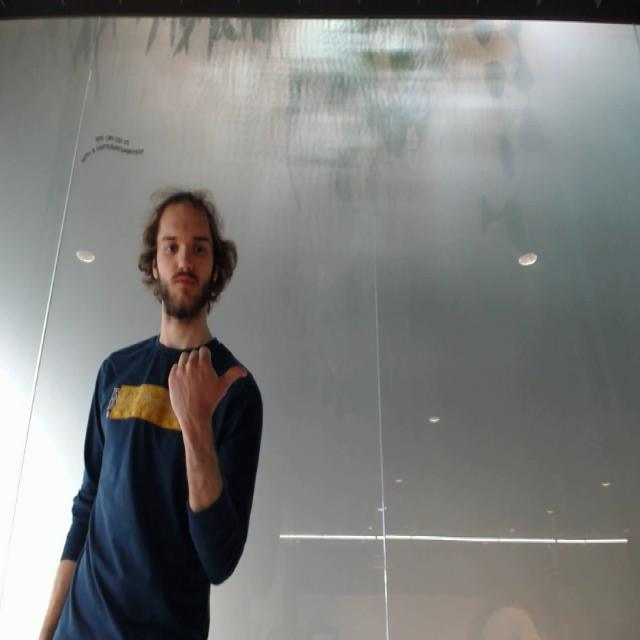right: (167, 339, 261, 433)
